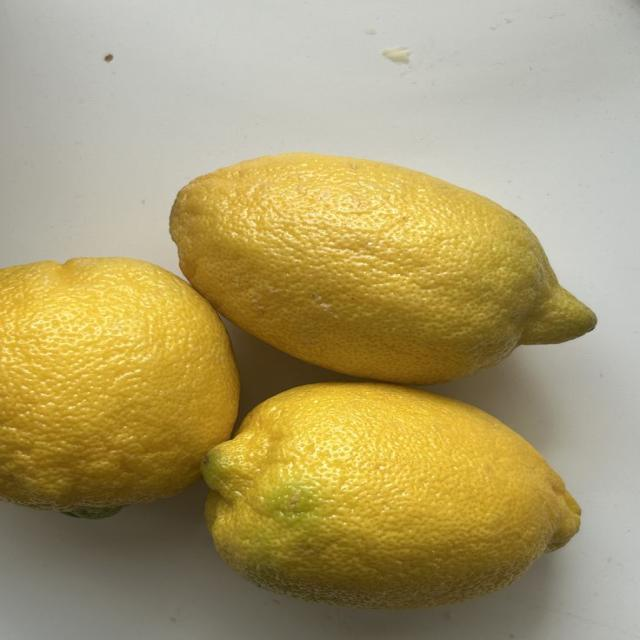lemon: (171, 154, 595, 383), (202, 383, 579, 608), (0, 259, 238, 516)
